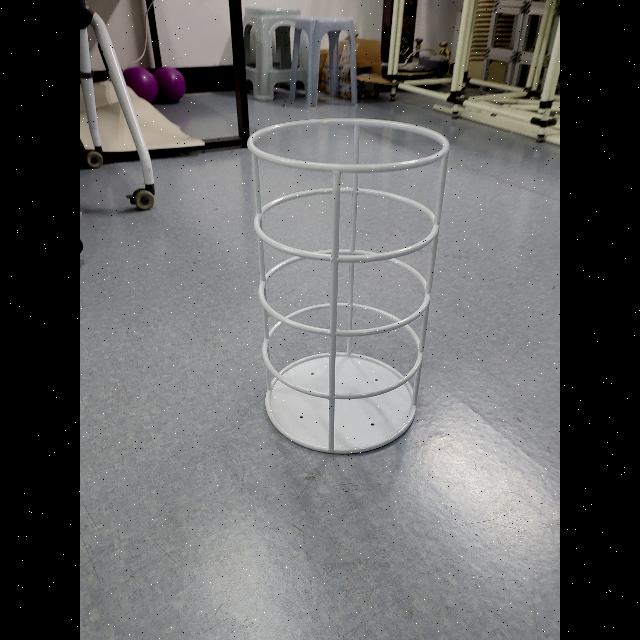S: (244, 116, 453, 457)
